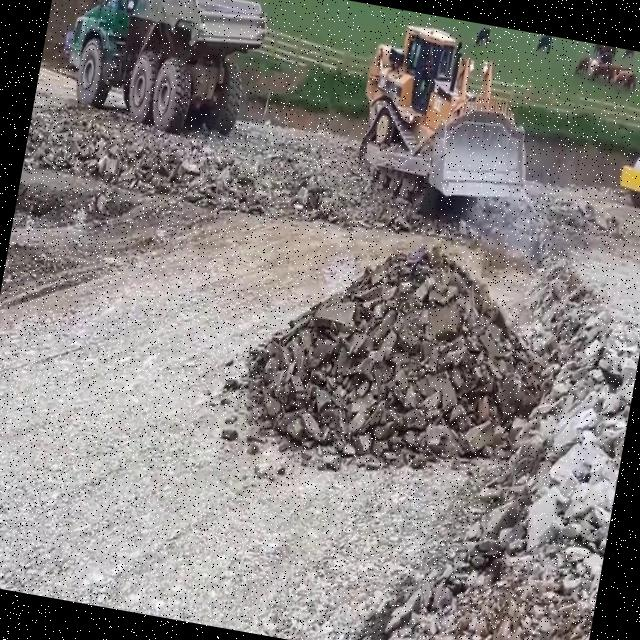Bulldozer: (342, 12, 554, 236)
Dump Truck: (53, 0, 271, 147)
Roller: (38, 0, 78, 78), (614, 110, 640, 211)
